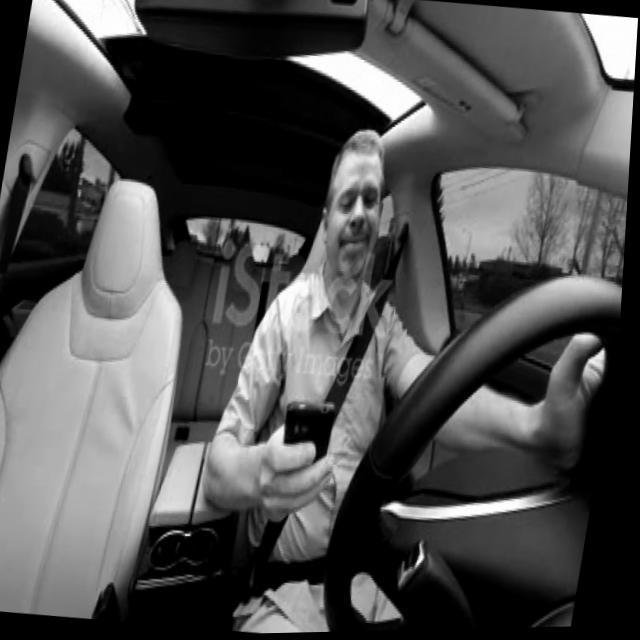PhoneCall: (276, 398, 342, 508)
